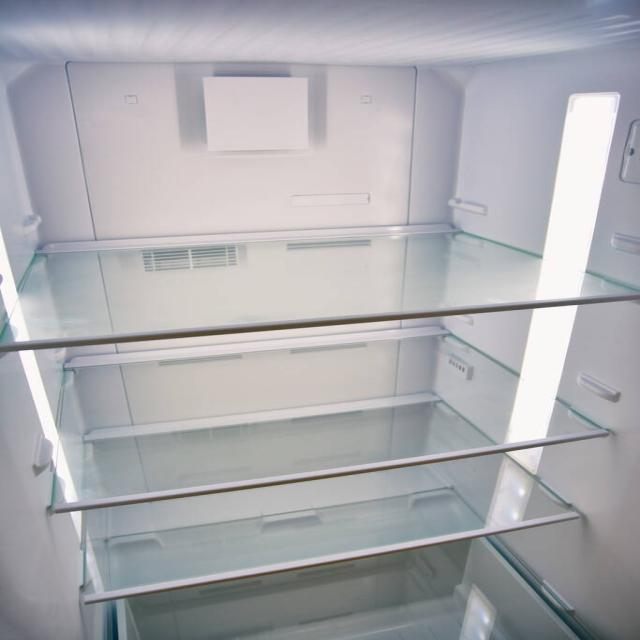fridge-space: (2, 220, 614, 298), (290, 337, 570, 443), (42, 358, 278, 483), (304, 467, 552, 543), (12, 220, 158, 332), (87, 514, 272, 571)
